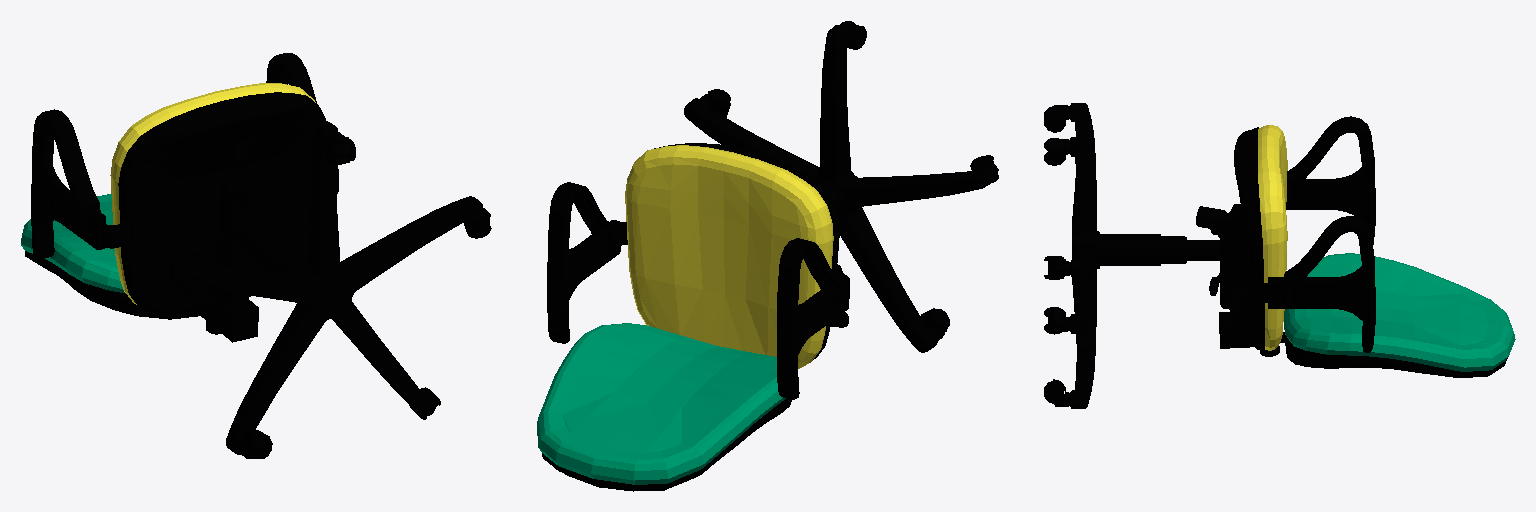
The robot description file, URDF, robot "s__1507":
<robot name="s__1507">


	<link name="0:virtual">
		<visual>
			<origin xyz="0.0 0.0 0.0" rpy="0 0 0"/>
			<geometry>
				<cylinder length="0" radius="0"/>
			</geometry>
		</visual>
	</link>


	<link name="1:static">
		<visual>
			<origin xyz="-0.0 -0.0 -0.0" rpy="0 0 0"/>
			<geometry>
				<mesh filename="../raw_data/s__1507/part_meshes/1.dae" />
			</geometry>
		</visual>
	</link>


	<link name="2:backrest 1">
		<visual>
			<origin xyz="2.995133399963379e-06 -0.8057070374488831 0.22296250611543655" rpy="0 0 0"/>
			<geometry>
				<mesh filename="../raw_data/s__1507/part_meshes/2.dae" />
			</geometry>
		</visual>
	</link>


	<link name="3:seat 1">
		<visual>
			<origin xyz="3.5017728805541992e-06 -0.4909989982843399 -0.002804003655910492" rpy="0 0 0"/>
			<geometry>
				<mesh filename="../raw_data/s__1507/part_meshes/3.dae" />
			</geometry>
		</visual>
	</link>


	<link name="4:height-adjusting knob 1">
		<visual>
			<origin xyz="3.3993273973464966e-06 -0.5114484876394272 0.27365849912166595" rpy="0 0 0"/>
			<geometry>
				<mesh filename="../raw_data/s__1507/part_meshes/4.dae" />
			</geometry>
		</visual>
	</link>


	<link name="5:wheel 1">
		<visual>
			<origin xyz="0.19255750590495094 -0.02265211576448678 0.2984880008278831" rpy="0 0 0"/>
			<geometry>
				<mesh filename="../raw_data/s__1507/part_meshes/5.dae" />
			</geometry>
		</visual>
	</link>


	<link name="6:wheel 2">
		<visual>
			<origin xyz="-0.1925514330320727 -0.02265211527848976 0.29848740594954987" rpy="0 0 0"/>
			<geometry>
				<mesh filename="../raw_data/s__1507/part_meshes/6.dae" />
			</geometry>
		</visual>
	</link>


	<link name="7:wheel 3">
		<visual>
			<origin xyz="-0.3115556615225717 -0.022652123227985044 -0.06885130192905105" rpy="0 0 0"/>
			<geometry>
				<mesh filename="../raw_data/s__1507/part_meshes/7.dae" />
			</geometry>
		</visual>
	</link>


	<link name="8:wheel 4">
		<visual>
			<origin xyz="4.250556230545044e-06 -0.02265212849698628 -0.29587800800800323" rpy="0 0 0"/>
			<geometry>
				<mesh filename="../raw_data/s__1507/part_meshes/8.dae" />
			</geometry>
		</visual>
	</link>


	<link name="9:wheel 5">
		<visual>
			<origin xyz="0.31156264989571525 -0.022652124013987418 -0.06885059665886009" rpy="0 0 0"/>
			<geometry>
				<mesh filename="../raw_data/s__1507/part_meshes/9.dae" />
			</geometry>
		</visual>
	</link>


	<link name="10:gas lift piece 1">
		<visual>
			<origin xyz="3.4024441829122454e-06 -0.19555649906396866 0.03267924437259681" rpy="0 0 0"/>
			<geometry>
				<mesh filename="../raw_data/s__1507/part_meshes/10.dae" />
			</geometry>
		</visual>
	</link>


	<link name="11:caster 1">
		<visual>
			<origin xyz="0.31456876751248053 -0.039194400422275066 -0.06983009588155385" rpy="0 0 0"/>
			<geometry>
				<mesh filename="../raw_data/s__1507/part_meshes/11.dae" />
			</geometry>
		</visual>
	</link>


	<link name="12:caster 2">
		<visual>
			<origin xyz="4.258851778342343e-06 -0.039194400422275066 -0.2990639691532885" rpy="0 0 0"/>
			<geometry>
				<mesh filename="../raw_data/s__1507/part_meshes/12.dae" />
			</geometry>
		</visual>
	</link>


	<link name="13:caster 3">
		<visual>
			<origin xyz="-0.3145617983448128 -0.039194400422275066 -0.0698308518419109" rpy="0 0 0"/>
			<geometry>
				<mesh filename="../raw_data/s__1507/part_meshes/13.dae" />
			</geometry>
		</visual>
	</link>


	<link name="14:caster 4">
		<visual>
			<origin xyz="-0.1944033551169084 -0.03919435013085604 0.3010440891122306" rpy="0 0 0"/>
			<geometry>
				<mesh filename="../raw_data/s__1507/part_meshes/14.dae" />
			</geometry>
		</visual>
	</link>


	<link name="15:caster 5">
		<visual>
			<origin xyz="0.19440941907541465 -0.03919435013085604 0.30104489988175054" rpy="0 0 0"/>
			<geometry>
				<mesh filename="../raw_data/s__1507/part_meshes/15.dae" />
			</geometry>
		</visual>
	</link>


	<link name="16:lever 1">
		<visual>
			<origin xyz="0.020529599860310555 -0.4599039852619171 0.1033179983496666" rpy="0 0 0"/>
			<geometry>
				<mesh filename="../raw_data/s__1507/part_meshes/16.dae" />
			</geometry>
		</visual>
	</link>


	<link name="17:lever 2">
		<visual>
			<origin xyz="0.028628995059145193 -0.40137051045894623 0.0015751138376658494" rpy="0 0 0"/>
			<geometry>
				<mesh filename="../raw_data/s__1507/part_meshes/17.dae" />
			</geometry>
		</visual>
	</link>


	<link name="18:lever 3">
		<visual>
			<origin xyz="-0.03156678998228317 -0.42587301015853885 0.005321226497209745" rpy="0 0 0"/>
			<geometry>
				<mesh filename="../raw_data/s__1507/part_meshes/18.dae" />
			</geometry>
		</visual>
	</link>


	<link name="19:lever 4">
		<visual>
			<origin xyz="-0.029678646452724583 -0.43894098699092865 0.1033179983496666" rpy="0 0 0"/>
			<geometry>
				<mesh filename="../raw_data/s__1507/part_meshes/19.dae" />
			</geometry>
		</visual>
	</link>


	<link name="20:arm support 1">
		<visual>
			<origin xyz="-0.2654299885034561 -0.6186039745807648 0.016268249601125717" rpy="0 0 0"/>
			<geometry>
				<mesh filename="../raw_data/s__1507/part_meshes/20.dae" />
			</geometry>
		</visual>
	</link>


	<link name="21:arm support 2">
		<visual>
			<origin xyz="0.2654369920492172 -0.6186039745807648 0.016268249601125717" rpy="0 0 0"/>
			<geometry>
				<mesh filename="../raw_data/s__1507/part_meshes/21.dae" />
			</geometry>
		</visual>
	</link>


	<link name="22:tilt-control knob 1">
		<visual>
			<origin xyz="-4.150938147997815e-05 -0.3861124962568283 -0.04693169374315328" rpy="0 0 0"/>
			<geometry>
				<mesh filename="../raw_data/s__1507/part_meshes/22.dae" />
			</geometry>
		</visual>
	</link>


	<link name="23:back connector 1">
		<visual>
			<origin xyz="3.400258719921112e-06 -0.5156710147857666 0.25119199603796005" rpy="0 0 0"/>
			<geometry>
				<mesh filename="../raw_data/s__1507/part_meshes/23.dae" />
			</geometry>
		</visual>
	</link>


	<joint name="0:virtual::1:static" type="fixed">
		<parent link="0:virtual"/>
		<child link="1:static"/>
		<origin xyz="0.0 0.0 0.0" rpy="0 0 0"/>
	</joint>


	<joint name="23:back connector 1::2:backrest 1_translation" type="prismatic">
		<parent link="23:back connector 1"/>
		<child link="2:backrest 1"/>
		<origin xyz="4.0512531995773315e-07 0.29003602266311646 0.0282294899225235" rpy="0 0 0"/>
		<limit lower="-0.0113819763064384" upper="0.0106180236935616" effort="10" velocity="3"/>
		<axis xyz="0.0 0.0 -1.0"/>
	</joint>


	<joint name="10:gas lift piece 1::3:seat 1_translation" type="prismatic">
		<parent link="10:gas lift piece 1"/>
		<child link="3:seat 1"/>
		<origin xyz="-9.932869764195384e-08 0.29544249922037125 0.0354832480285073" rpy="0 0 0"/>
		<limit lower="-0.0222490034103394" upper="0.0257509965896606" effort="10" velocity="3"/>
		<axis xyz="0.0 1.0 0.0"/>
	</joint>


	<joint name="10:gas lift piece 1::4:height-adjusting knob 1_rotation" type="revolute">
		<parent link="10:gas lift piece 1"/>
		<child link="4:height-adjusting knob 1"/>
		<origin xyz="3.116785565748792e-09 0.3158919885754585 -0.24097925474906914" rpy="0 0 0"/>
		<limit lower="-3.141592653589793" upper="3.141592653589793" effort="10" velocity="3"/>
		<axis xyz="0.0 0.0 -1.0"/>
	</joint>


	<joint name="15:caster 5::5:wheel 1_rotation" type="revolute">
		<parent link="15:caster 5"/>
		<child link="5:wheel 1"/>
		<origin xyz="0.0018519131704637093 -0.016542234366369257 0.002556899053867412" rpy="0 0 0"/>
		<limit lower="-3.141592653589793" upper="3.141592653589793" effort="10" velocity="3"/>
		<axis xyz="0.8082018904364507 0.0 -0.5889055138941622"/>
	</joint>


	<joint name="14:caster 4::6:wheel 2_rotation" type="revolute">
		<parent link="14:caster 4"/>
		<child link="6:wheel 2"/>
		<origin xyz="-0.0018519220848356999 -0.016542234852366278 0.0025566831626807063" rpy="0 0 0"/>
		<limit lower="-3.141592653589793" upper="3.141592653589793" effort="10" velocity="3"/>
		<axis xyz="0.8081963238278232 0.0 0.5889131533182056"/>
	</joint>


	<joint name="13:caster 3::7:wheel 3_rotation" type="revolute">
		<parent link="13:caster 3"/>
		<child link="7:wheel 3"/>
		<origin xyz="-0.003006136822241101 -0.016542277194290023 -0.0009795499128598534" rpy="0 0 0"/>
		<limit lower="-3.141592653589793" upper="3.141592653589793" effort="10" velocity="3"/>
		<axis xyz="-0.308200464881989 0.0 0.9513214353973771"/>
	</joint>


	<joint name="12:caster 2::8:wheel 4_rotation" type="revolute">
		<parent link="12:caster 2"/>
		<child link="8:wheel 4"/>
		<origin xyz="8.295547797299019e-09 -0.016542271925288787 -0.003185961145285243" rpy="0 0 0"/>
		<limit lower="-3.141592653589793" upper="3.141592653589793" effort="10" velocity="3"/>
		<axis xyz="1.0 0.0 0.0"/>
	</joint>


	<joint name="11:caster 1::9:wheel 5_rotation" type="revolute">
		<parent link="11:caster 1"/>
		<child link="9:wheel 5"/>
		<origin xyz="0.0030061176167652803 -0.01654227640828765 -0.000979499222693761" rpy="0 0 0"/>
		<limit lower="-3.141592653589793" upper="3.141592653589793" effort="10" velocity="3"/>
		<axis xyz="0.3081996849104914 0.0 0.9513216880850947"/>
	</joint>


	<joint name="0:virtual::10:gas lift piece 1_rotation" type="revolute">
		<parent link="0:virtual"/>
		<child link="10:gas lift piece 1"/>
		<origin xyz="-3.4024441829122454e-06 0.19555649906396866 -0.03267924437259681" rpy="0 0 0"/>
		<limit lower="-3.141592653589793" upper="3.141592653589793" effort="10" velocity="3"/>
		<axis xyz="0.0 1.0 0.0"/>
	</joint>


	<joint name="0:virtual::11:caster 1_rotation" type="revolute">
		<parent link="0:virtual"/>
		<child link="11:caster 1"/>
		<origin xyz="-0.31456876751248053 0.039194400422275066 0.06983009588155385" rpy="0 0 0"/>
		<limit lower="-3.141592653589793" upper="3.141592653589793" effort="10" velocity="3"/>
		<axis xyz="0.0 1.0 0.0"/>
	</joint>


	<joint name="0:virtual::12:caster 2_rotation" type="revolute">
		<parent link="0:virtual"/>
		<child link="12:caster 2"/>
		<origin xyz="-4.258851778342343e-06 0.039194400422275066 0.2990639691532885" rpy="0 0 0"/>
		<limit lower="-3.141592653589793" upper="3.141592653589793" effort="10" velocity="3"/>
		<axis xyz="0.0 1.0 0.0"/>
	</joint>


	<joint name="0:virtual::13:caster 3_rotation" type="revolute">
		<parent link="0:virtual"/>
		<child link="13:caster 3"/>
		<origin xyz="0.3145617983448128 0.039194400422275066 0.0698308518419109" rpy="0 0 0"/>
		<limit lower="-3.141592653589793" upper="3.141592653589793" effort="10" velocity="3"/>
		<axis xyz="0.0 1.0 0.0"/>
	</joint>


	<joint name="0:virtual::14:caster 4_rotation" type="revolute">
		<parent link="0:virtual"/>
		<child link="14:caster 4"/>
		<origin xyz="0.1944033551169084 0.03919435013085604 -0.3010440891122306" rpy="0 0 0"/>
		<limit lower="-3.141592653589793" upper="3.141592653589793" effort="10" velocity="3"/>
		<axis xyz="0.0 1.0 0.0"/>
	</joint>


	<joint name="0:virtual::15:caster 5_rotation" type="revolute">
		<parent link="0:virtual"/>
		<child link="15:caster 5"/>
		<origin xyz="-0.19440941907541465 0.03919435013085604 -0.30104489988175054" rpy="0 0 0"/>
		<limit lower="-3.141592653589793" upper="3.141592653589793" effort="10" velocity="3"/>
		<axis xyz="0.0 1.0 0.0"/>
	</joint>


	<joint name="10:gas lift piece 1::16:lever 1_rotation" type="revolute">
		<parent link="10:gas lift piece 1"/>
		<child link="16:lever 1"/>
		<origin xyz="-0.020526197416127642 0.26434748619794846 -0.07063875397706978" rpy="0 0 0"/>
		<limit lower="-0.2827433388230814" upper="0.17278759594743862" effort="10" velocity="3"/>
		<axis xyz="0.0 0.0 1.0"/>
	</joint>


	<joint name="10:gas lift piece 1::17:lever 2_rotation" type="revolute">
		<parent link="10:gas lift piece 1"/>
		<child link="17:lever 2"/>
		<origin xyz="-0.02862559261496228 0.20581401139497757 0.03110413053493096" rpy="0 0 0"/>
		<limit lower="-0.2827433388230814" upper="0.17278759594743862" effort="10" velocity="3"/>
		<axis xyz="-0.14735776986625357 0.0 0.9890832561822307"/>
	</joint>


	<joint name="10:gas lift piece 1::18:lever 3_rotation" type="revolute">
		<parent link="10:gas lift piece 1"/>
		<child link="18:lever 3"/>
		<origin xyz="0.03157019242646608 0.2303165110945702 0.027358017875387067" rpy="0 0 0"/>
		<limit lower="-0.2827433388230814" upper="0.17278759594743862" effort="10" velocity="3"/>
		<axis xyz="0.14735797619637703 0.0 0.9890832254422821"/>
	</joint>


	<joint name="10:gas lift piece 1::19:lever 4_rotation" type="revolute">
		<parent link="10:gas lift piece 1"/>
		<child link="19:lever 4"/>
		<origin xyz="0.029682048896907495 0.24338448792696 -0.07063875397706978" rpy="0 0 0"/>
		<limit lower="-0.2827433388230814" upper="0.17278759594743862" effort="10" velocity="3"/>
		<axis xyz="0.0 0.0 1.0"/>
	</joint>


	<joint name="3:seat 1::20:arm support 1_translation" type="prismatic">
		<parent link="3:seat 1"/>
		<child link="20:arm support 1"/>
		<origin xyz="0.26543349027633667 0.12760497629642487 -0.01907225325703621" rpy="0 0 0"/>
		<limit lower="-0.018716514110565186" upper="0.018716514110565186" effort="10" velocity="3"/>
		<axis xyz="0.0 1.0 0.0"/>
	</joint>


	<joint name="3:seat 1::21:arm support 2_translation" type="prismatic">
		<parent link="3:seat 1"/>
		<child link="21:arm support 2"/>
		<origin xyz="-0.26543349027633667 0.12760497629642487 -0.01907225325703621" rpy="0 0 0"/>
		<limit lower="-0.018716514110565186" upper="0.018716514110565186" effort="10" velocity="3"/>
		<axis xyz="0.0 1.0 0.0"/>
	</joint>


	<joint name="10:gas lift piece 1::22:tilt-control knob 1_rotation" type="revolute">
		<parent link="10:gas lift piece 1"/>
		<child link="22:tilt-control knob 1"/>
		<origin xyz="4.49118256628904e-05 0.19055599719285965 0.0796109381157501" rpy="0 0 0"/>
		<limit lower="-0.91106186954104" upper="0.6283185307179586" effort="10" velocity="3"/>
		<axis xyz="0.0 1.0 0.0"/>
	</joint>


	<joint name="10:gas lift piece 1::23:back connector 1_rotation" type="revolute">
		<parent link="10:gas lift piece 1"/>
		<child link="23:back connector 1"/>
		<origin xyz="2.1854629911333134e-09 0.32011451572179794 -0.21851275166536324" rpy="0 0 0"/>
		<limit lower="-0.4084070449666731" upper="0.1413716694115407" effort="10" velocity="3"/>
		<axis xyz="1.0 0.0 0.0"/>
	</joint>


</robot>

--- What the picture shows (computed from the rendered views, not written in the file) ---
The picture shows the robot from 3 angles, left to right: view 1: azimuth 30°, elevation 25°; view 2: azimuth 150°, elevation 25°; view 3: azimuth 270°, elevation 25°; orthographic projection.
Robot: s__1507 — 24 links, 23 joints (18 revolute, 4 prismatic, 1 fixed); root link 0:virtual; default pose: every joint at zero.
Visible links, largest first — view 1: 3:seat 1, 1:static, 21:arm support 2, 10:gas lift piece 1, 2:backrest 1, 20:arm support 1, 22:tilt-control knob 1, 16:lever 1, 5:wheel 1, 7:wheel 3, 8:wheel 4; view 2: 3:seat 1, 2:backrest 1, 1:static, 20:arm support 1, 21:arm support 2; view 3: 2:backrest 1, 3:seat 1, 1:static, 10:gas lift piece 1, 20:arm support 1, 21:arm support 2, 22:tilt-control knob 1.
Boxes of the visible links, x1,y1,x2,y2 form: 3:seat 1: (101, 83, 338, 314); 1:static: (170, 121, 482, 454); 21:arm support 2: (31, 109, 105, 259); 10:gas lift piece 1: (200, 173, 307, 342); 2:backrest 1: (21, 194, 199, 319); 20:arm support 1: (266, 53, 337, 166); 22:tilt-control knob 1: (231, 185, 267, 213); 16:lever 1: (142, 263, 224, 301); 5:wheel 1: (240, 430, 272, 458); 7:wheel 3: (463, 206, 491, 238); 8:wheel 4: (325, 139, 355, 164); 3:seat 1: (621, 143, 849, 368); 2:backrest 1: (537, 323, 791, 491); 1:static: (684, 25, 991, 352); 20:arm support 1: (547, 182, 620, 343); 21:arm support 2: (777, 238, 848, 399); 2:backrest 1: (1284, 253, 1515, 377); 3:seat 1: (1234, 125, 1287, 350); 1:static: (1070, 103, 1099, 408); 10:gas lift piece 1: (1100, 204, 1254, 348); 20:arm support 1: (1268, 216, 1375, 352); 21:arm support 2: (1286, 116, 1375, 244); 22:tilt-control knob 1: (1196, 206, 1232, 230).
Size in the robot's own frame: 0.7 by 1.07 by 0.67 metres.
Meshes: 23 distinct files referenced, 23 mesh visuals loaded (23 Collada DAE).
